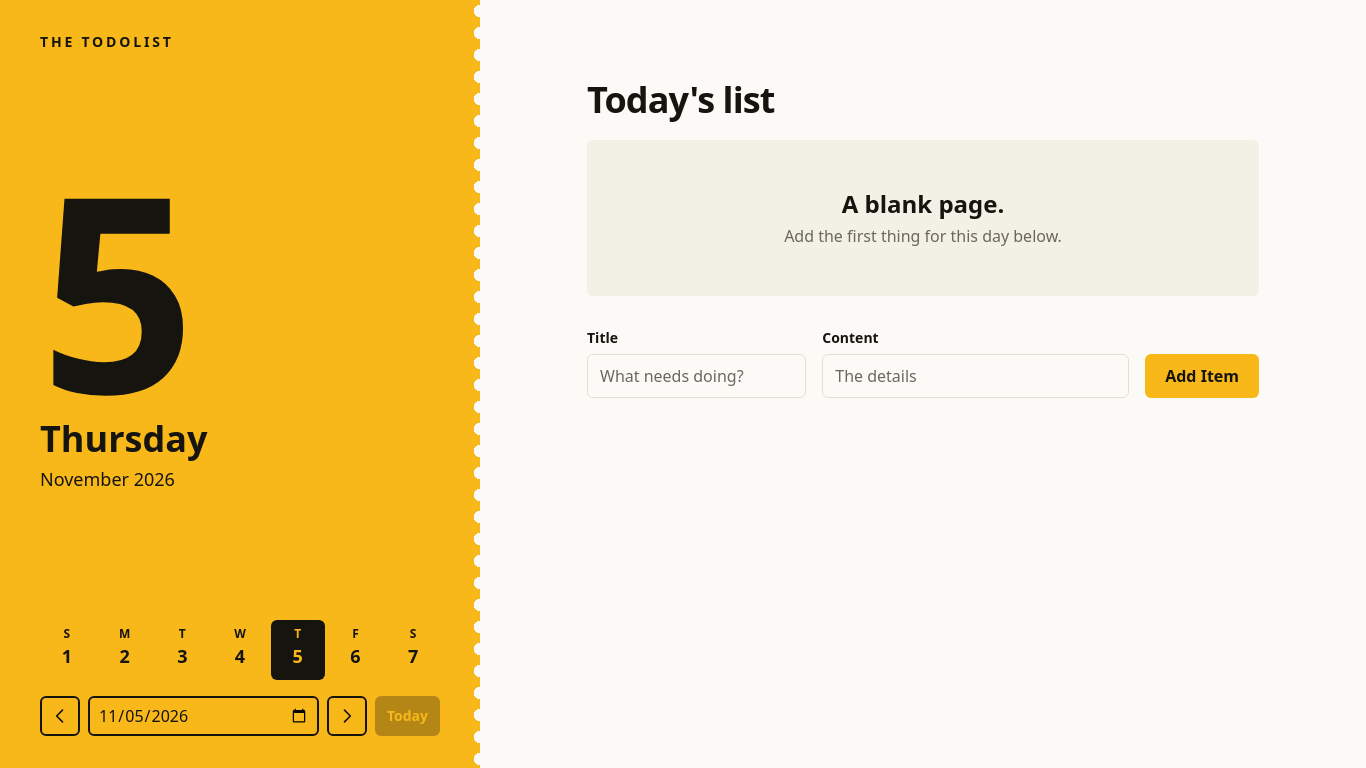
DateSelector › changes lists for different dates
# Add an item through Accordian's form
In the field labelled "Title": (697, 376) [587,354,806,398], type "Milk"
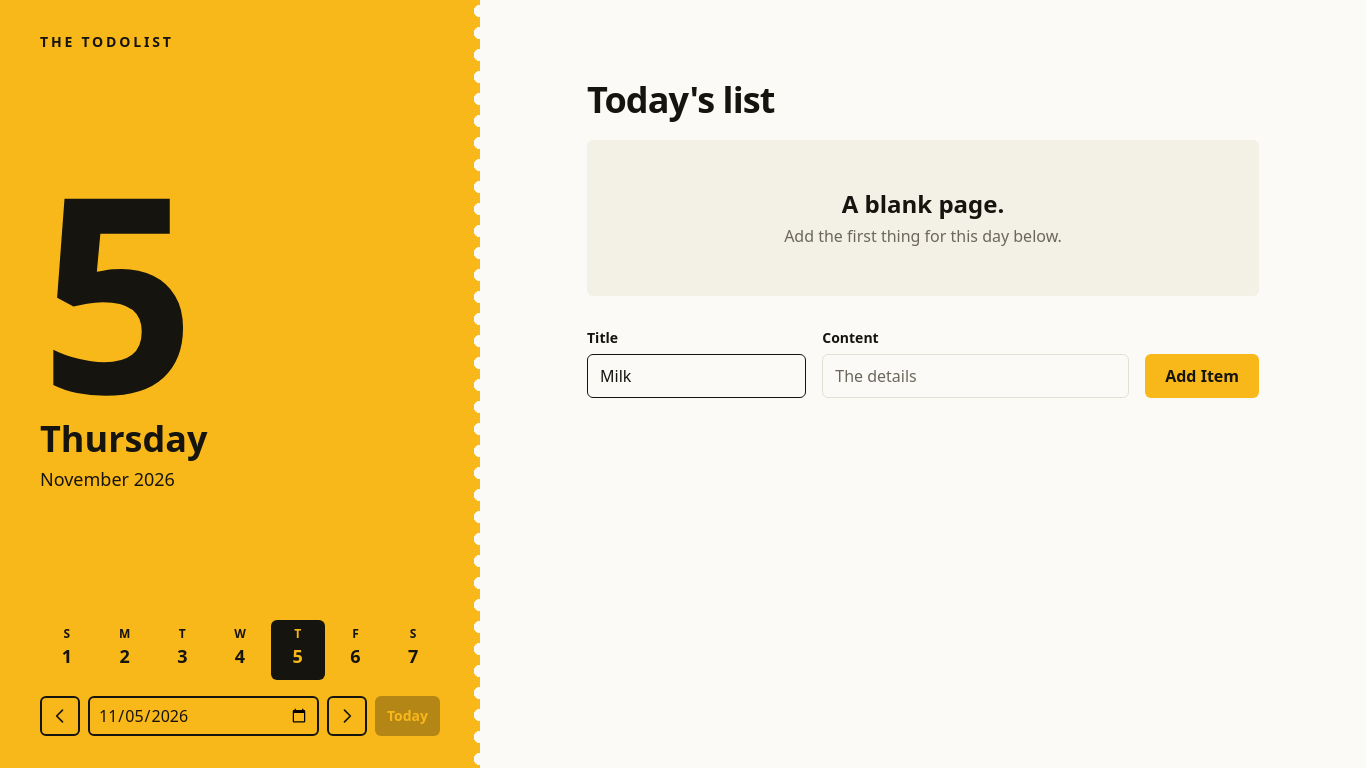
In the field labelled "Content": (976, 376) [822,354,1129,398], type "Buy 2%"
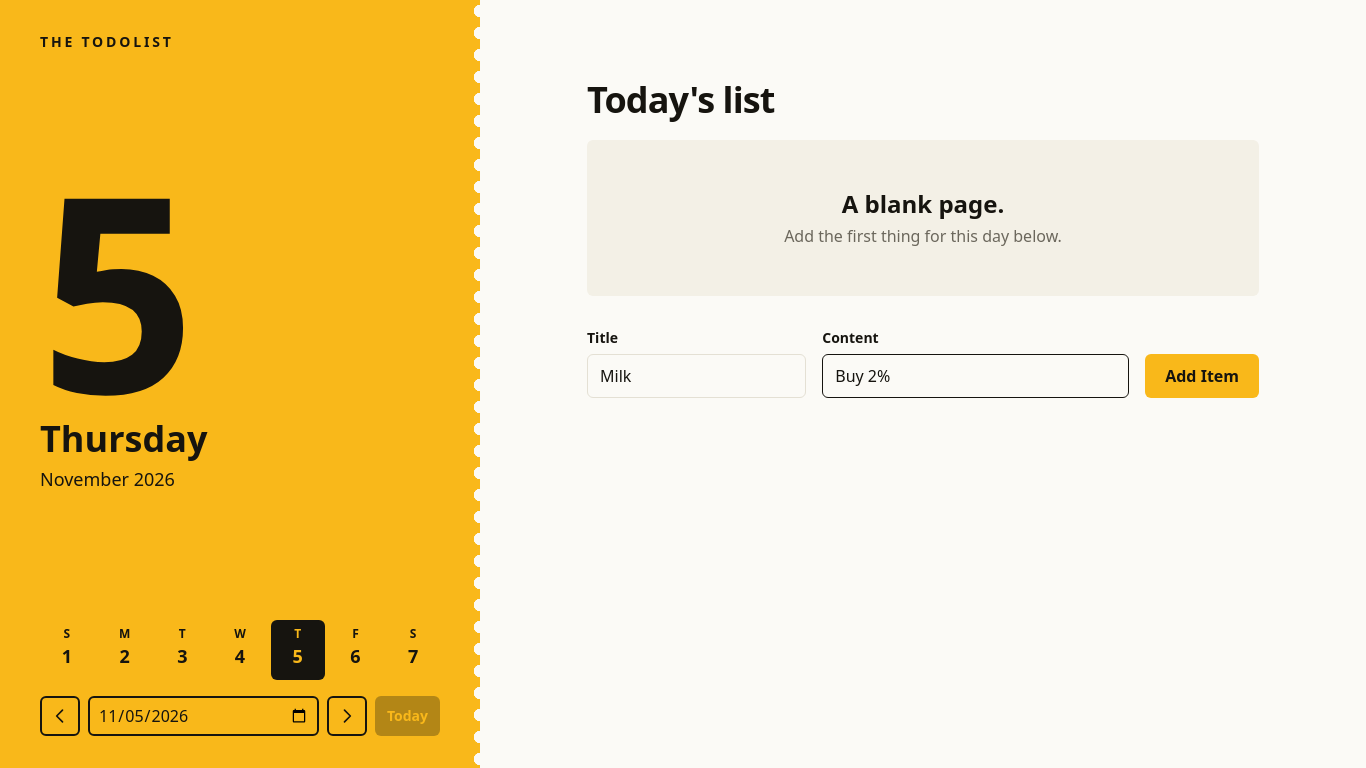
Click the button "Add Item": (1202, 376) [1145,354,1259,398]
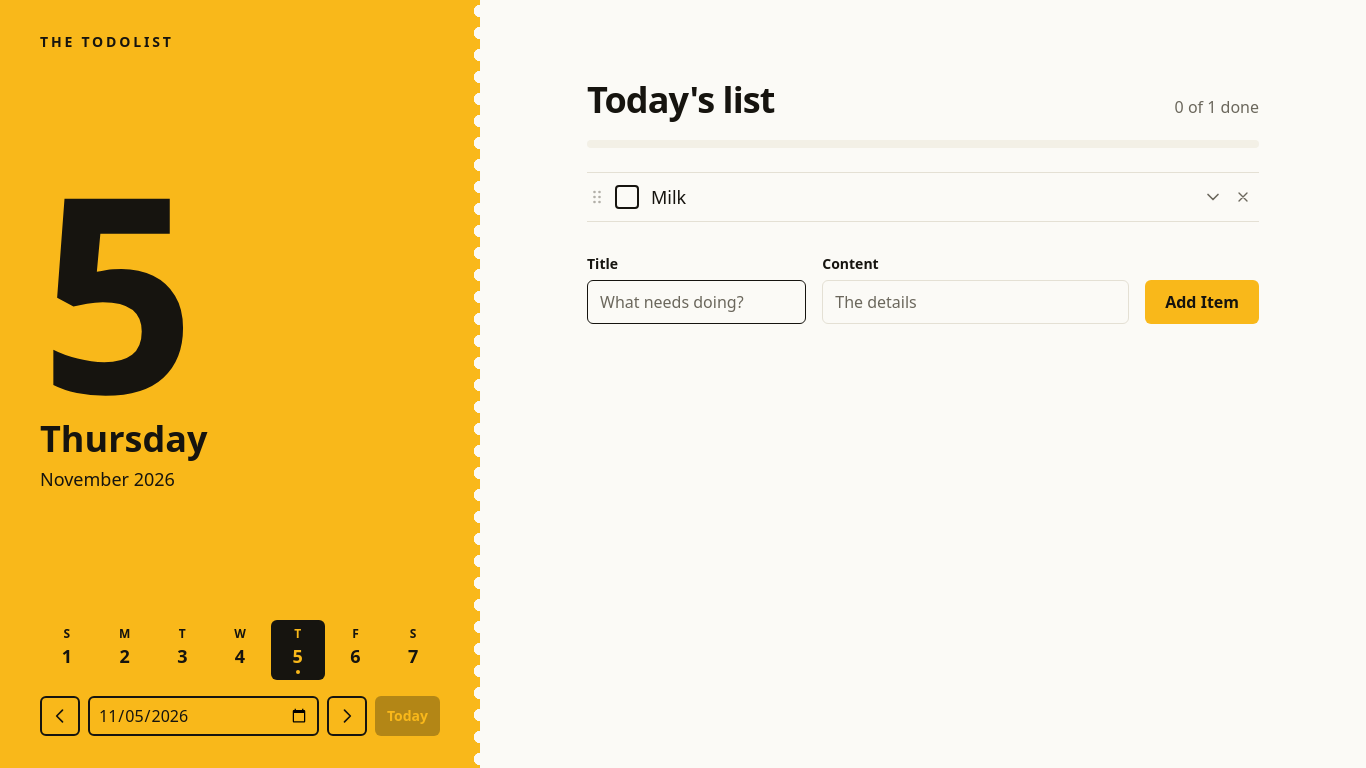
Check: the date field named "Date" holds "2026-11-05", box [88,696,319,736]
Check: the text "Milk" is shown, box [651,185,686,209]
Click the button named "Increase-Date": (347, 716) [327,696,367,736]
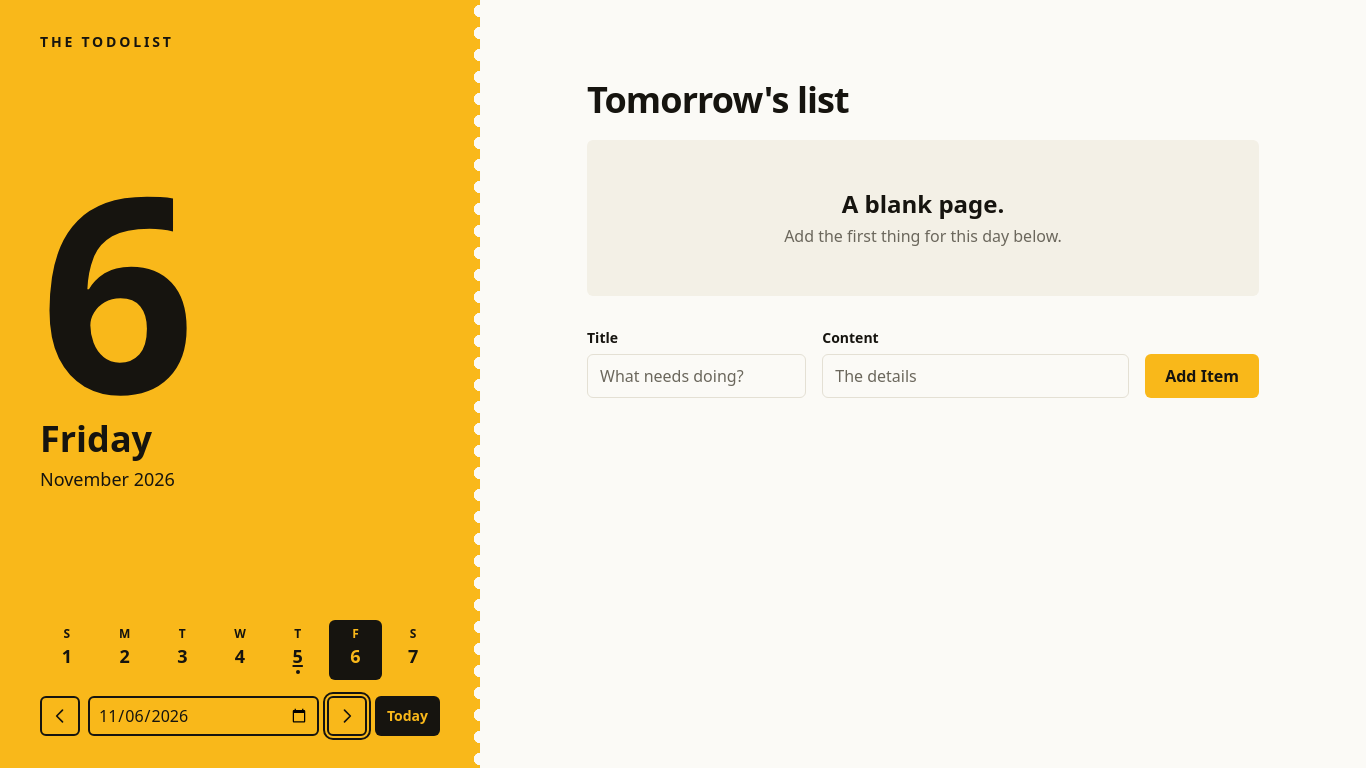
Check: the button "Milk" is gone
Check: the date field named "Date" holds "2026-11-06", box [88,696,319,736]
Click the button named "Decrease-Date": (60, 716) [40,696,80,736]
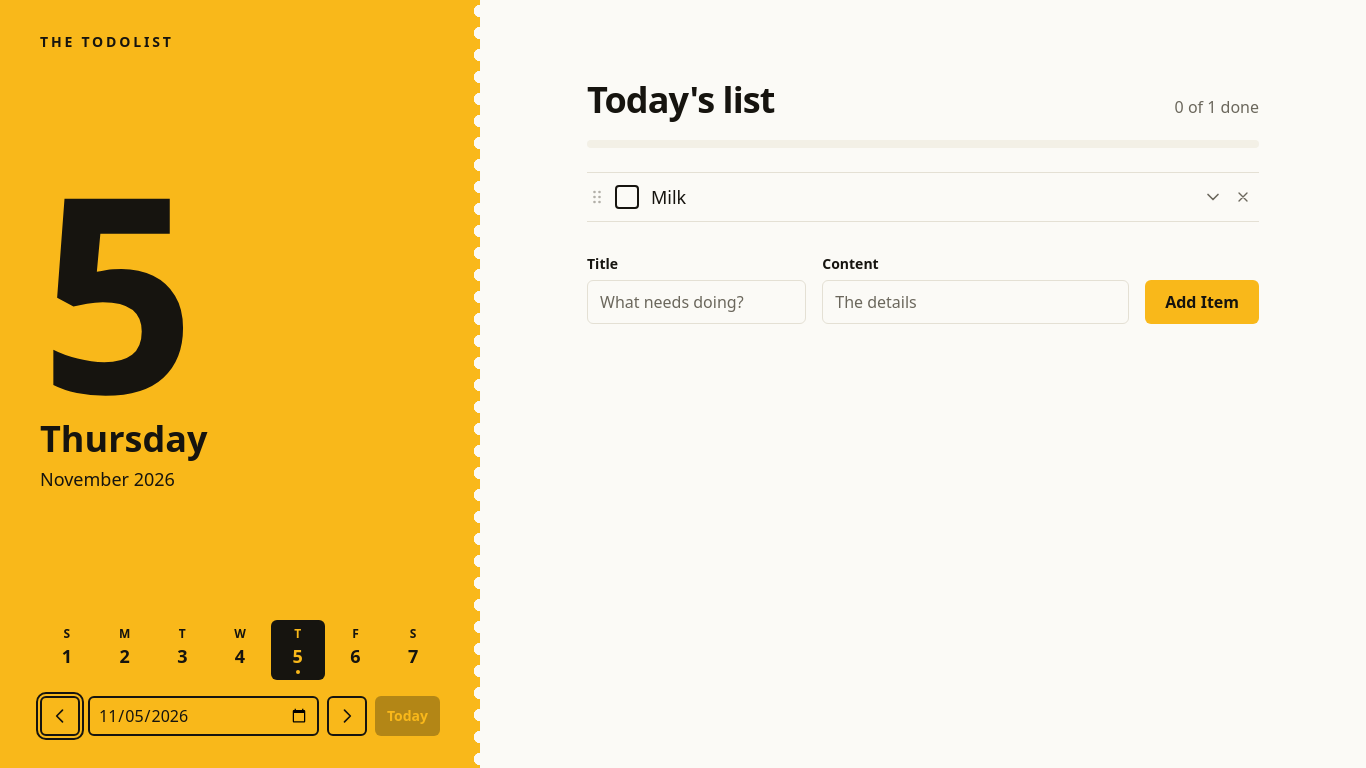
Check: the text "Milk" is shown, box [651,185,686,209]
Check: the date field named "Date" holds "2026-11-05", box [88,696,319,736]
